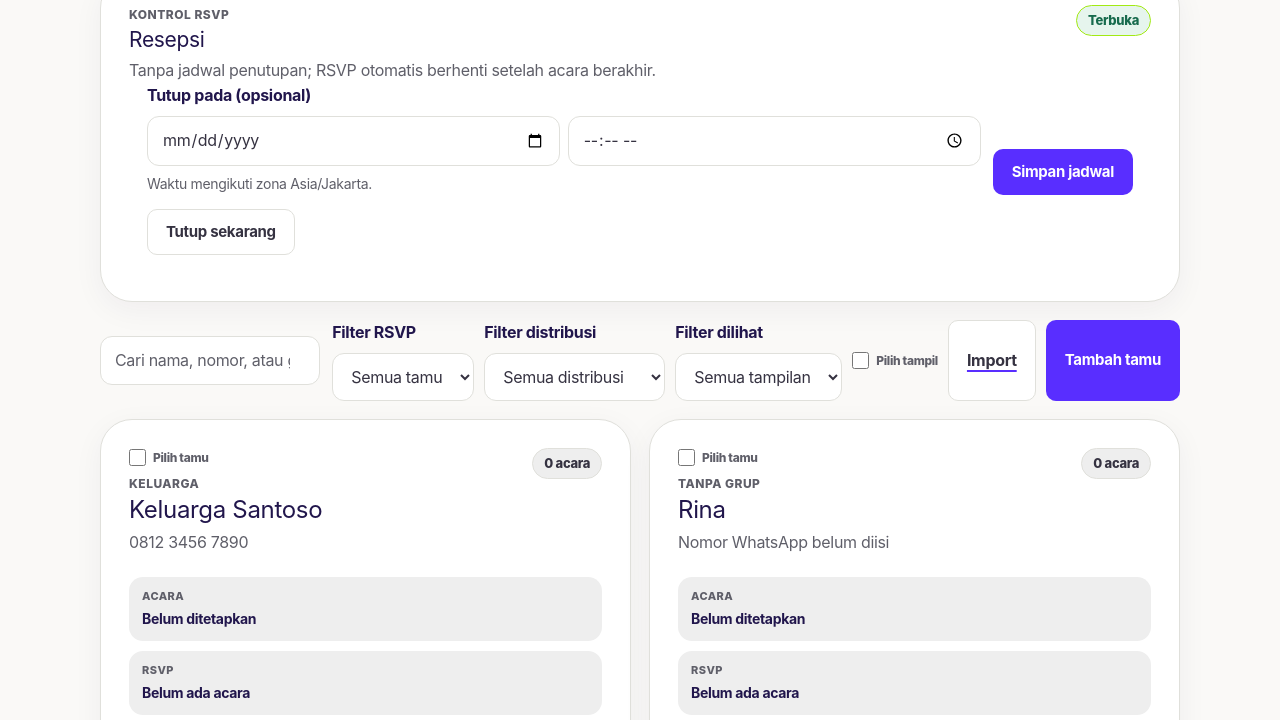
GuestsManager › filters guest cards by name, phone, or group
This screenshot has width=1280, height=720.
(page scrolled)
expect the heading "Keluarga Santoso" is shown: met, box [129,496,322,524]
expect the heading "Rina" is shown: met, box [678,495,726,524]
In the search field named "Cari tamu": (210, 360) [100,336,320,385], type "rina"
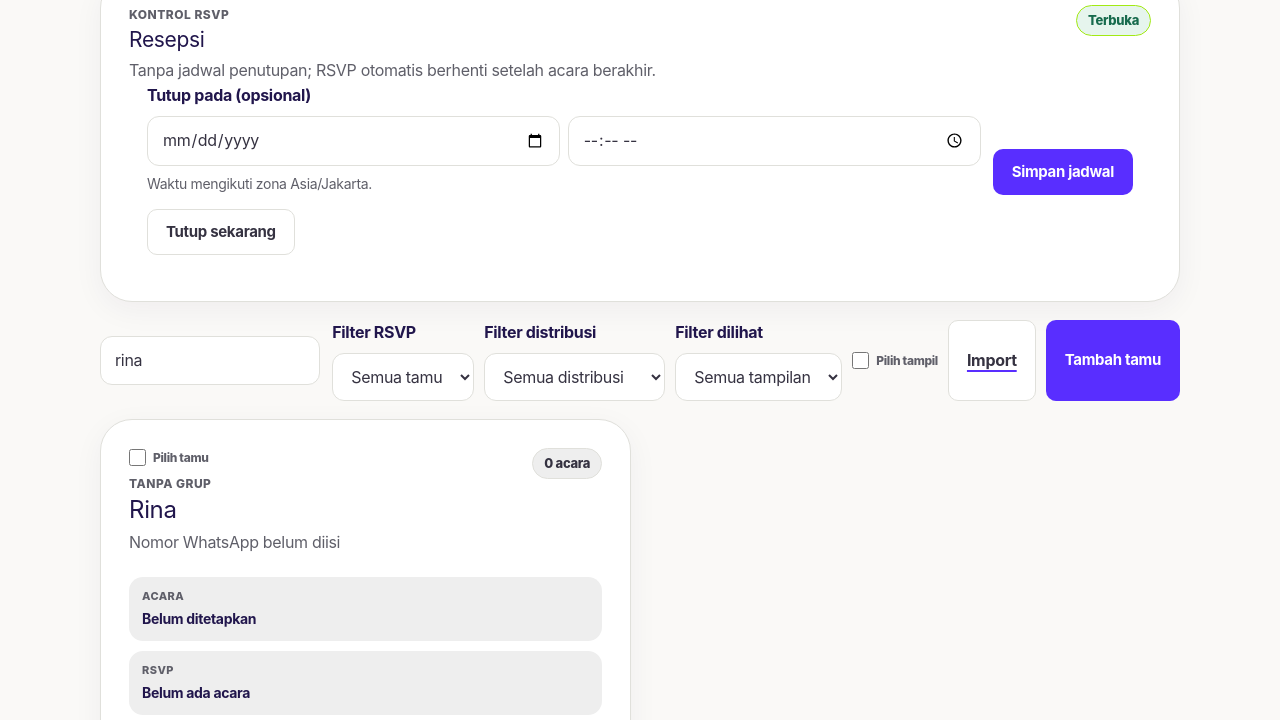
expect the heading "Rina" is shown: met, box [129,495,177,524]
expect the heading "Keluarga Santoso" is gone: met
